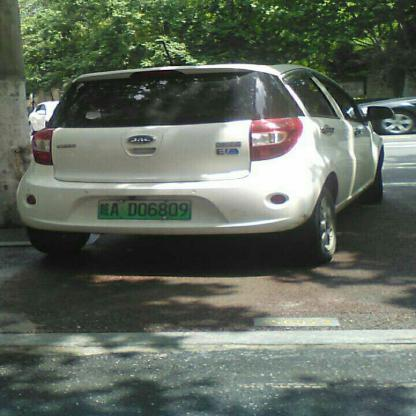lp: (98, 201, 191, 218)
